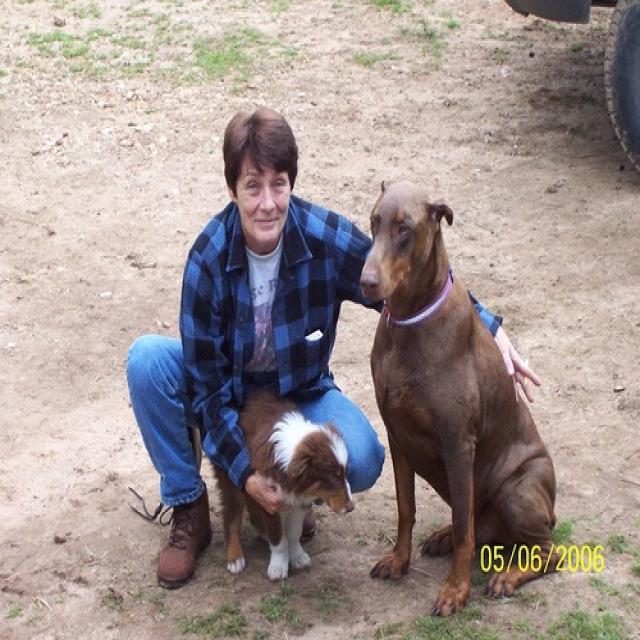dog: (360, 174, 556, 609), (216, 389, 354, 580)
